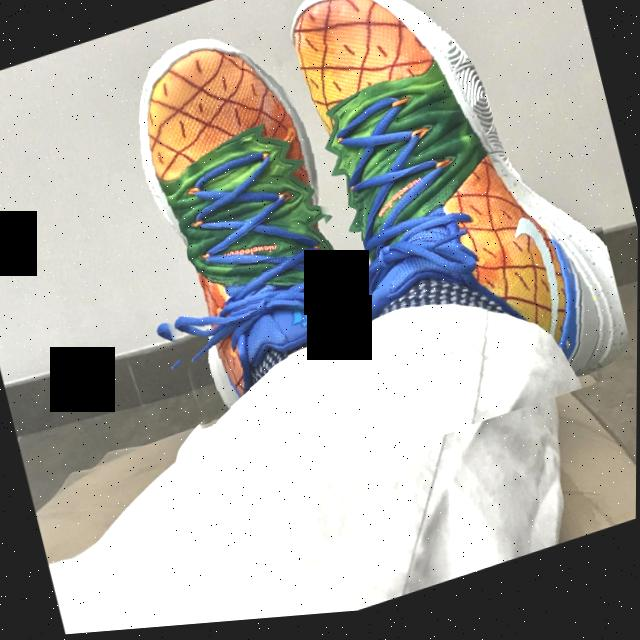shoe: (254, 0, 640, 473), (84, 7, 373, 446)
